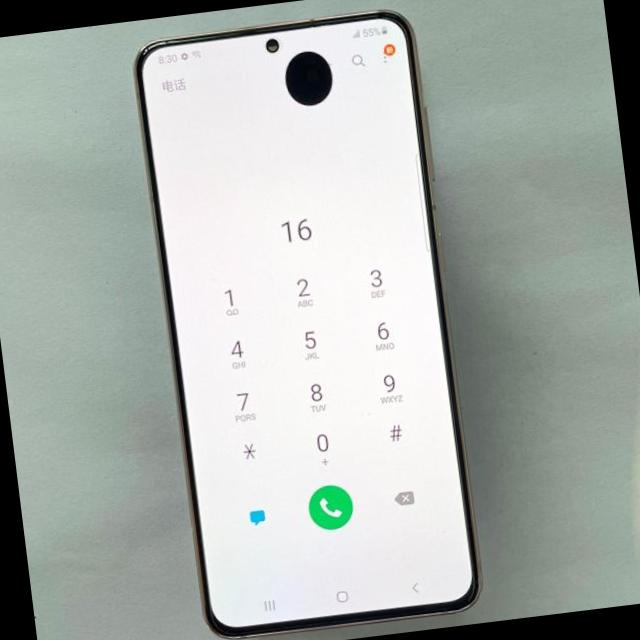dead pixel: (260, 34, 360, 136)
